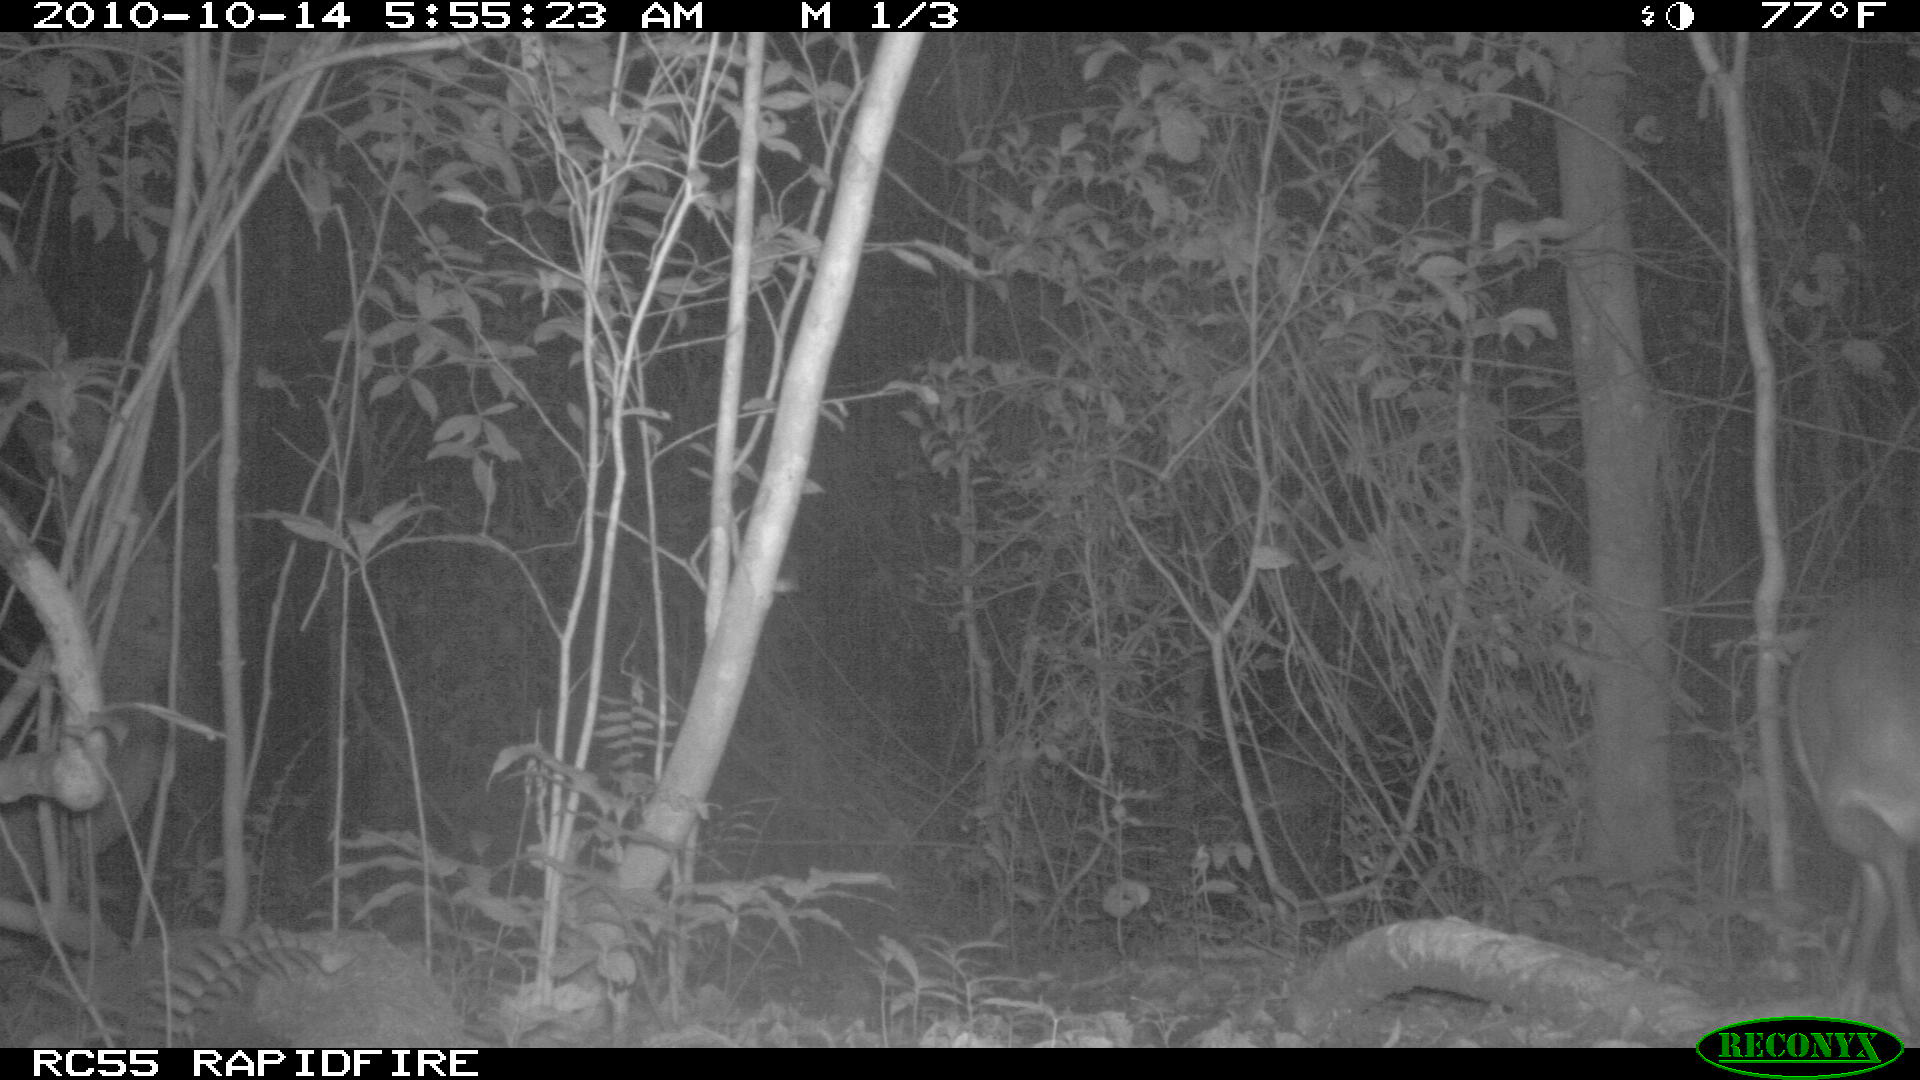Deer: (1785, 556, 1916, 1018)
